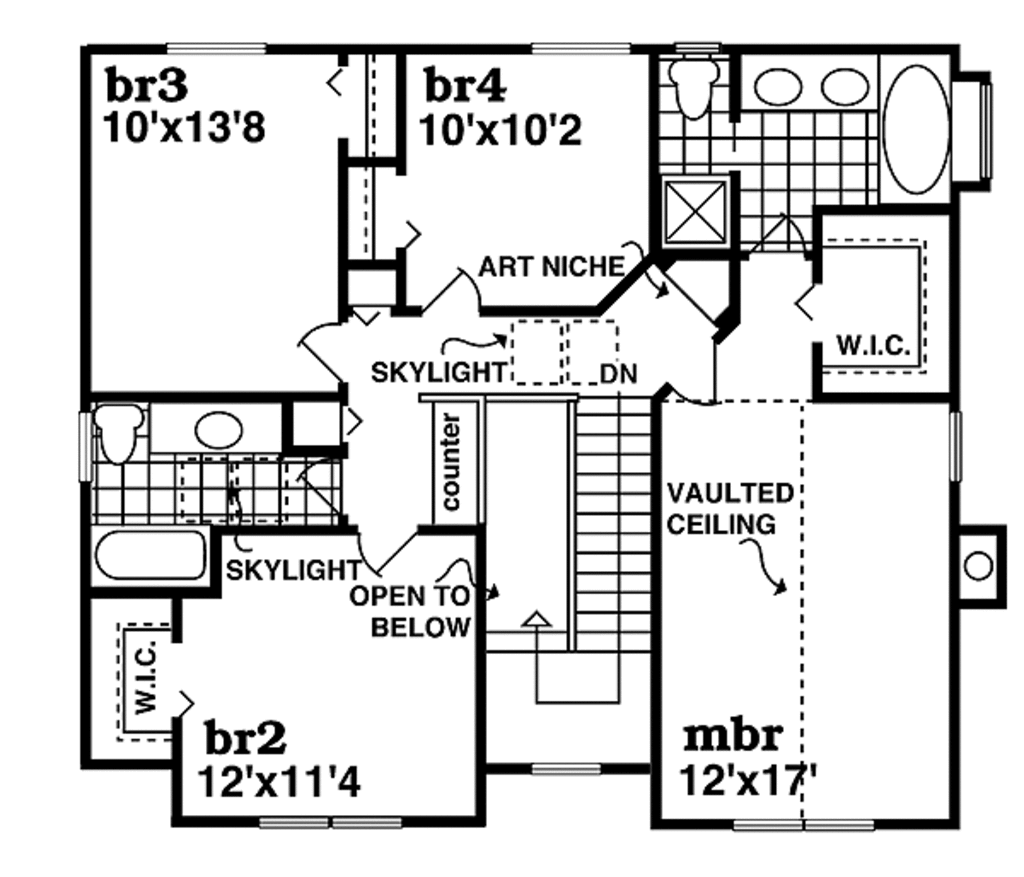door: (296, 314, 353, 393), (345, 524, 419, 569), (425, 271, 479, 313)
large_sink: (93, 399, 147, 468), (667, 53, 720, 120)
small_sink: (739, 51, 884, 109), (150, 401, 285, 459)
stairs: (560, 388, 647, 653)
tub: (878, 43, 954, 208), (84, 523, 215, 593)
windows: (253, 810, 409, 833), (722, 814, 876, 834), (970, 79, 998, 185), (519, 37, 635, 60), (939, 406, 966, 489), (160, 42, 274, 60), (523, 757, 606, 780)
